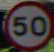Speed limit: (1, 2, 52, 46)
